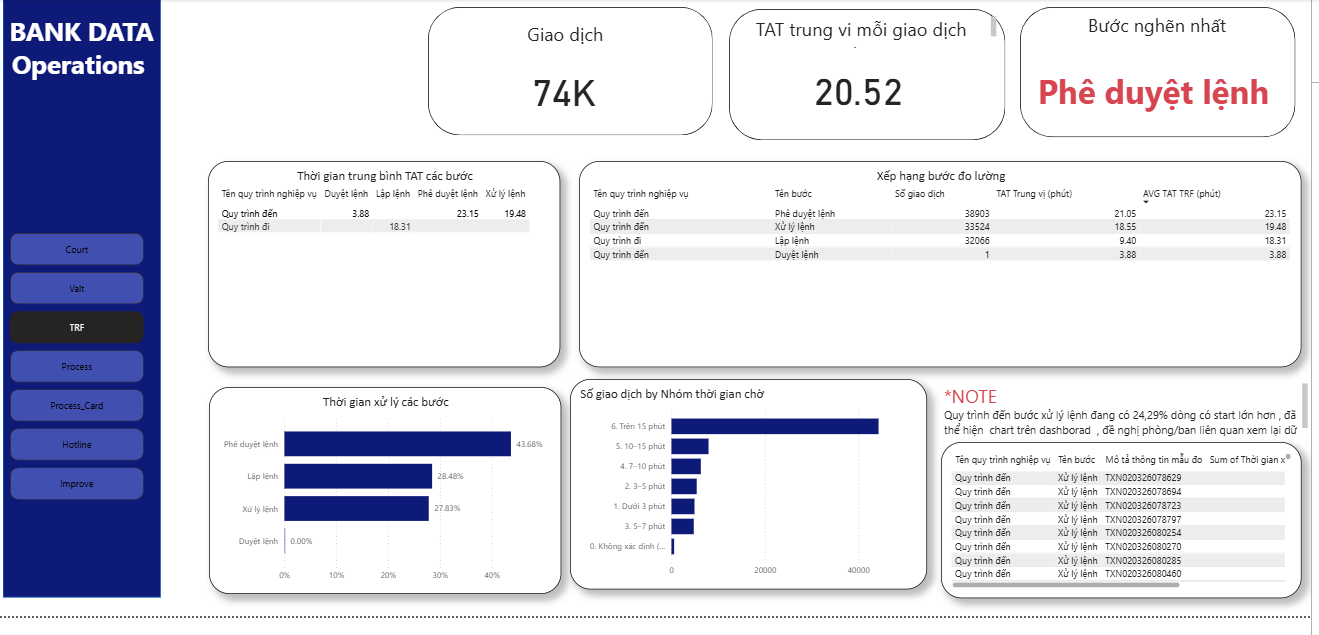

Layout of this report page (visuals, bound fields, positions):
{"tool":"powerbi","page":{"name":"TRF","canvas":[1920,900],"ordinal":2},"visuals":[{"type":"shape","box":[11,0,230.4,873.1],"z":0},{"type":"textbox","box":[23.1,15.4,184.6,188.5],"z":1000},{"type":"shape","box":[631.3,12.3,415.4,187.2],"z":2000},{"type":"textbox","box":[673.7,27.3,330.7,54.7],"z":3000},{"type":"cardVisual","fields":{"Data":["Measure_TRF.Số giao dịch valt3"]},"box":[765.3,82,173.6,94.3],"z":4000},{"type":"cardVisual","fields":{"Data":["Measure_TRF.Bước nghẽn nhất valt3"]},"box":[1504.6,65.6,382.6,125.7],"z":5000},{"type":"shape","box":[1495,12.3,401.8,190],"z":6000},{"type":"textbox","box":[1526.4,15,338.9,56],"z":7000},{"type":"shape","box":[1071.4,15,403.1,191.3],"z":8000},{"type":"textbox","box":[1071.4,20.5,394.9,56],"z":9000},{"type":"cardVisual","fields":{"Data":["Measure_TRF.TAT Trung vị mỗi giao dịch (phút) valt3"]},"box":[1178,80.6,181.8,94.3],"z":10000},{"type":"clusteredBarChart","title":"Thời gian xử lý các bước","fields":{"Category":["Dim_UNIT_03_TRF_DOM.Tên bước"],"Y":["Measure_TRF.% Tổng thời gian xử lý valt3"]},"box":[312,566,514,302],"z":11000},{"type":"clusteredBarChart","fields":{"Y":["Measure_TRF.Số giao dịch valt3"],"Category":["Fact_UNIT_03_TRF_DOM.Nhóm thời gian chờ valt3"]},"box":[839,555,521,307],"z":12000},{"type":"tableEx","title":"Xếp hạng bước đo lường","fields":{"Values":["Dim_UNIT_03_TRF_DOM.Tên quy trình nghiệp vụ","Dim_UNIT_03_TRF_DOM.Tên bước","Measure_TRF.Số giao dịch valt3","Measure_TRF.TAT Trung vị (giây) valt3","Measure TAT (2).AVG TAT TRF (phút)"]},"box":[852.2,236.7,1054.4,301.1],"z":13000},{"type":"pivotTable","title":"Thời gian  trung bình TAT các bước","fields":{"Rows":["Dim_UNIT_03_TRF_DOM.Tên quy trình nghiệp vụ"],"Columns":["Dim_UNIT_03_TRF_DOM.Tên bước"],"Values":["Measure TAT (2).AVG TAT TRF (phút)"]},"box":[311.1,236.7,514.4,301.1],"z":15000},{"type":"textbox","box":[1380,555.6,540,90],"z":16000},{"type":"tableEx","fields":{"Values":["Dim_UNIT_03_TRF_DOM.Tên quy trình nghiệp vụ","Dim_UNIT_03_TRF_DOM.Tên bước","Fact_UNIT_03_TRF_DOM.Mô tả thông tin mẫu đo","Sum(Fact_UNIT_03_TRF_DOM.Thời gian xử lý đã trừ thời gian gián đoạn (phút))"]},"box":[1380.2,646.4,526.1,228.2],"z":17000},{"type":"pageNavigator","box":[22.1,340.7,195.9,394.5],"z":18000}]}

Visuals, with their boxes on the page's 1920x900 design canvas (x1, y1, x2, y2). These are canvas units, not pixel positions in the 1319x635 screenshot, which may show the page scaled, cropped or inside an application window:
shape: 11 0 241 873
textbox: 23 15 208 204
shape: 631 12 1047 200
textbox: 674 27 1004 82
cardVisual - Measure_TRF.Số giao dịch valt3: 765 82 939 176
cardVisual - Measure_TRF.Bước nghẽn nhất valt3: 1505 66 1887 191
shape: 1495 12 1897 202
textbox: 1526 15 1865 71
shape: 1071 15 1474 206
textbox: 1071 20 1466 76
cardVisual - Measure_TRF.TAT Trung vị mỗi giao dịch (phút) valt3: 1178 81 1360 175
"Thời gian xử lý các bước" clusteredBarChart: 312 566 826 868
clusteredBarChart - Measure_TRF.Số giao dịch valt3 x Fact_UNIT_03_TRF_DOM.Nhóm thời gian chờ valt3: 839 555 1360 862
"Xếp hạng bước đo lường" tableEx: 852 237 1907 538
"Thời gian  trung bình TAT các bước" pivotTable: 311 237 826 538
textbox: 1380 556 1920 646
tableEx - Dim_UNIT_03_TRF_DOM.Tên quy trình nghiệp vụ x Dim_UNIT_03_TRF_DOM.Tên bước: 1380 646 1906 875
pageNavigator: 22 341 218 735
